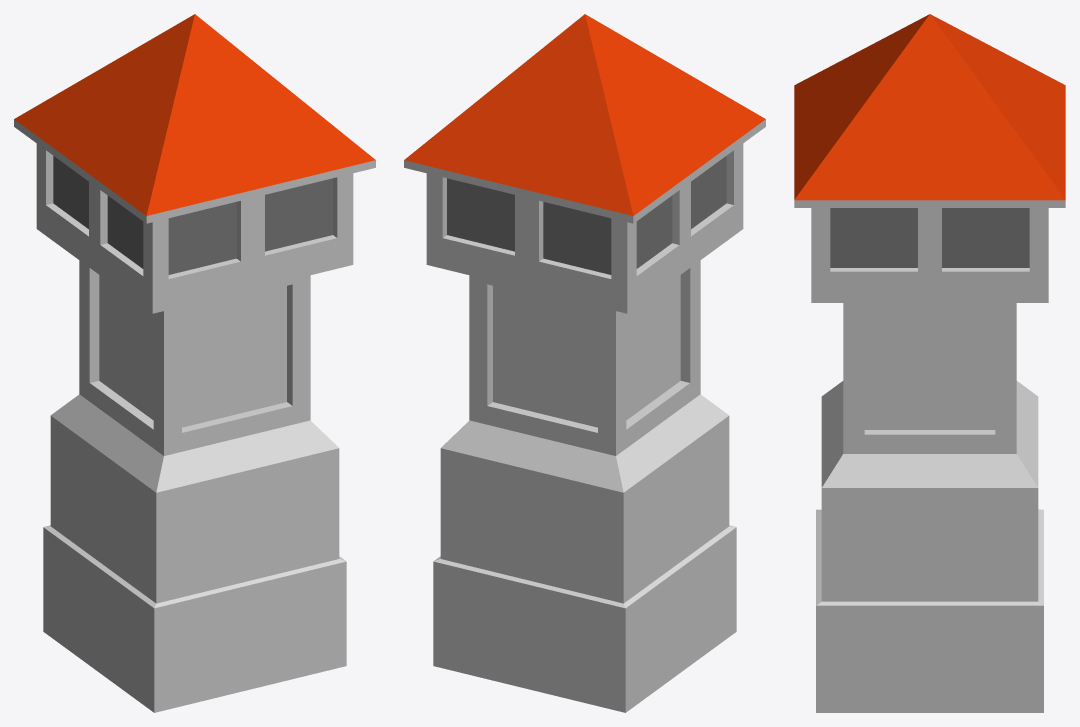
File: actualtower.fbx
3 views of the same model, side by side, from view 1: azimuth 30°, elevation 25°; view 2: azimuth 150°, elevation 25°; view 3: azimuth 270°, elevation 25° (orthographic). The views are drawn at different scales.
Parts seen in each view (by area): view 1: Cube; view 2: Cube; view 3: Cube.
Part boxes in pixels (box(x1,y1,x2,y2)): Cube: box(14, 14, 375, 712); Cube: box(404, 14, 765, 712); Cube: box(794, 14, 1065, 712).
Size of the model in its own units: 313 by 828 by 313.
